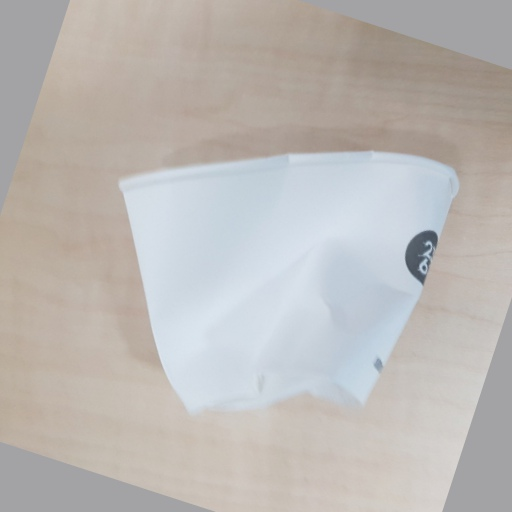Paper_1: (116, 148, 462, 415)
